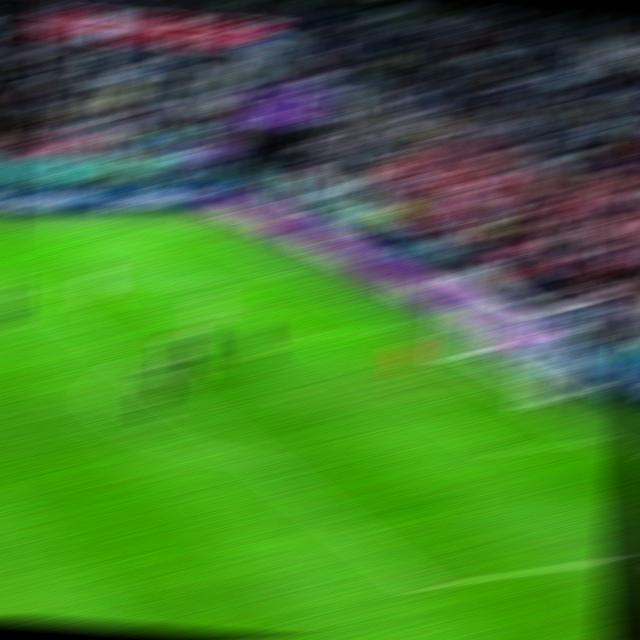bigarea_bottom_inner: (402, 572, 443, 598)
bigarea_top_inner: (14, 280, 47, 298)
bigarea_top_outter: (276, 268, 309, 280)
bottom_arc_area_intersection: (240, 450, 275, 470)
corner: (181, 216, 216, 227)
smallarea_bottom_inner: (482, 439, 520, 462)
smallarea_bottom_outter: (582, 428, 617, 448)
smallarea_top_inner: (289, 326, 323, 342)
smallarea_top_outter: (372, 318, 405, 334)
top_arc_area_intersection: (107, 350, 140, 366)
